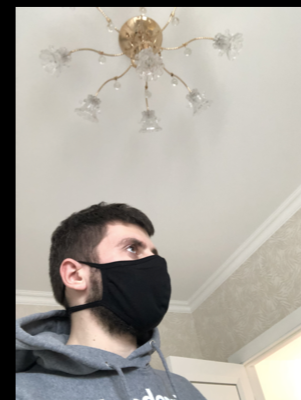with_mask: (93, 234, 170, 334)
